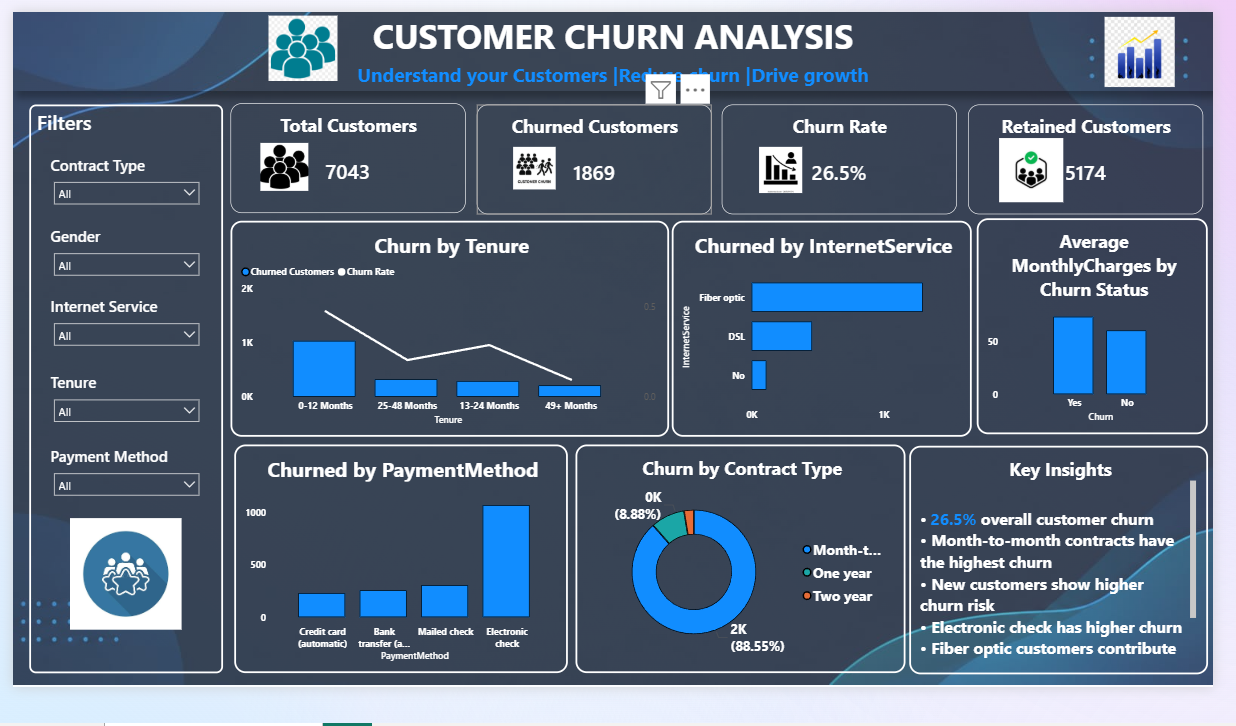

What the dashboard file says about the page in this screenshot:
{"tool":"powerbi","page":{"name":"Page 2","canvas":[1600,900],"ordinal":0},"visuals":[{"type":"shape","title":"CUSTOMER CHURN ANALYSIS","box":[0,0,1600,105],"z":0},{"type":"card","title":"Total Customers","fields":{"Values":["CountNonNull(Table1.customerID)"]},"box":[290,121.7,313.3,146.7],"z":1000},{"type":"image","box":[325,163.8,73.8,86.2],"z":2000},{"type":"card","title":"Churned Customers","fields":{"Values":["Table1.Churned Customers"]},"box":[618.3,123.3,313.3,146.7],"z":3000},{"type":"image","box":[650,175,90,66.2],"z":4000},{"type":"card","title":"Churn Rate","fields":{"Values":["Table1.Churn Rate"]},"box":[945,123.3,313.3,146.7],"z":5000},{"type":"image","box":[988.8,175,70,71.2],"z":6000},{"type":"card","title":"Retained Customers","fields":{"Values":["Table1.Retained Customers"]},"box":[1273.3,123.3,313.3,146.7],"z":7000},{"type":"image","box":[1310,161.2,95,98.8],"z":8000},{"type":"donutChart","title":"Churn by Contract Type","fields":{"Category":["Table1.Contract"],"Y":["Table1.Churned Customers"]},"box":[750,576.7,440,305],"z":9000},{"type":"lineClusteredColumnComboChart","title":"Churn by Tenure","fields":{"Category":["Table1.Tenure_Group"],"Y":["Table1.Churned Customers"],"Y2":["Table1.Churn Rate"]},"box":[290,278.3,585,288.3],"z":10000},{"type":"clusteredColumnChart","title":"Churned  by PaymentMethod","fields":{"Category":["Table1.PaymentMethod"],"Y":["Table1.Churned Customers"]},"box":[295,576.7,445,305],"z":11000},{"type":"clusteredBarChart","title":"Churned  by InternetService","fields":{"Category":["Table1.InternetService"],"Y":["Table1.Churned Customers"]},"box":[878.3,278.3,400,288],"z":12000},{"type":"clusteredColumnChart","title":"Average  MonthlyCharges by Churn Status","fields":{"Category":["Table1.Churn"],"Y":["Avg(Table1.MonthlyCharges)"]},"box":[1285,275,308.3,288.3],"z":13000},{"type":"textbox","title":"Key Insights","box":[1195,578.3,398.3,305],"z":14000},{"type":"textbox","title":"Filters","box":[21.7,123.3,258.3,758.3],"z":15000},{"type":"slicer","title":"Contract Type","fields":{"Values":["Table1.Contract"]},"box":[50,190,203.3,80],"z":16000},{"type":"slicer","title":"Gender","fields":{"Values":["Table1.gender"]},"box":[50,285,203.3,90],"z":17000},{"type":"slicer","title":"Internet Service","fields":{"Values":["Table1.InternetService"]},"box":[50,378.3,203.3,91.7],"z":18000},{"type":"slicer","title":"Tenure","fields":{"Values":["Table1.tenure"]},"box":[50,480,203.3,98.3],"z":19000},{"type":"slicer","title":"Payment Method","fields":{"Values":["Table1.PaymentMethod"]},"box":[50,578.3,203.3,91.7],"z":20000},{"type":"image","box":[1405,1.7,195,103.3],"z":21000},{"type":"image","box":[0,670,300,158.3],"z":22000},{"type":"image","box":[236.7,0,300,96.7],"z":23000}]}

Visuals, with their boxes in screenshot pixels (x1, y1, x2, y2):
"CUSTOMER CHURN ANALYSIS" shape: <region>0, 6, 1212, 86</region>
"Total Customers" card: <region>214, 99, 453, 211</region>
image: <region>241, 131, 297, 197</region>
"Churned Customers" card: <region>465, 100, 703, 212</region>
image: <region>489, 140, 557, 190</region>
"Churn Rate" card: <region>713, 100, 952, 212</region>
image: <region>747, 140, 800, 194</region>
"Retained Customers" card: <region>964, 100, 1202, 212</region>
image: <region>992, 129, 1064, 205</region>
"Churn by Contract Type" donutChart: <region>565, 446, 900, 678</region>
"Churn by Tenure" lineClusteredColumnComboChart: <region>214, 218, 660, 438</region>
"Churned  by PaymentMethod" clusteredColumnChart: <region>218, 446, 557, 678</region>
"Churned  by InternetService" clusteredBarChart: <region>663, 218, 967, 438</region>
"Average  MonthlyCharges by Churn Status" clusteredColumnChart: <region>972, 216, 1207, 436</region>
"Key Insights" textbox: <region>904, 447, 1207, 679</region>
"Filters" textbox: <region>10, 100, 207, 678</region>
"Contract Type" slicer: <region>32, 151, 187, 212</region>
"Gender" slicer: <region>32, 224, 187, 292</region>
"Internet Service" slicer: <region>32, 295, 187, 364</region>
"Tenure" slicer: <region>32, 372, 187, 447</region>
"Payment Method" slicer: <region>32, 447, 187, 517</region>
image: <region>1064, 8, 1212, 86</region>
image: <region>0, 517, 222, 637</region>
image: <region>174, 6, 402, 80</region>
